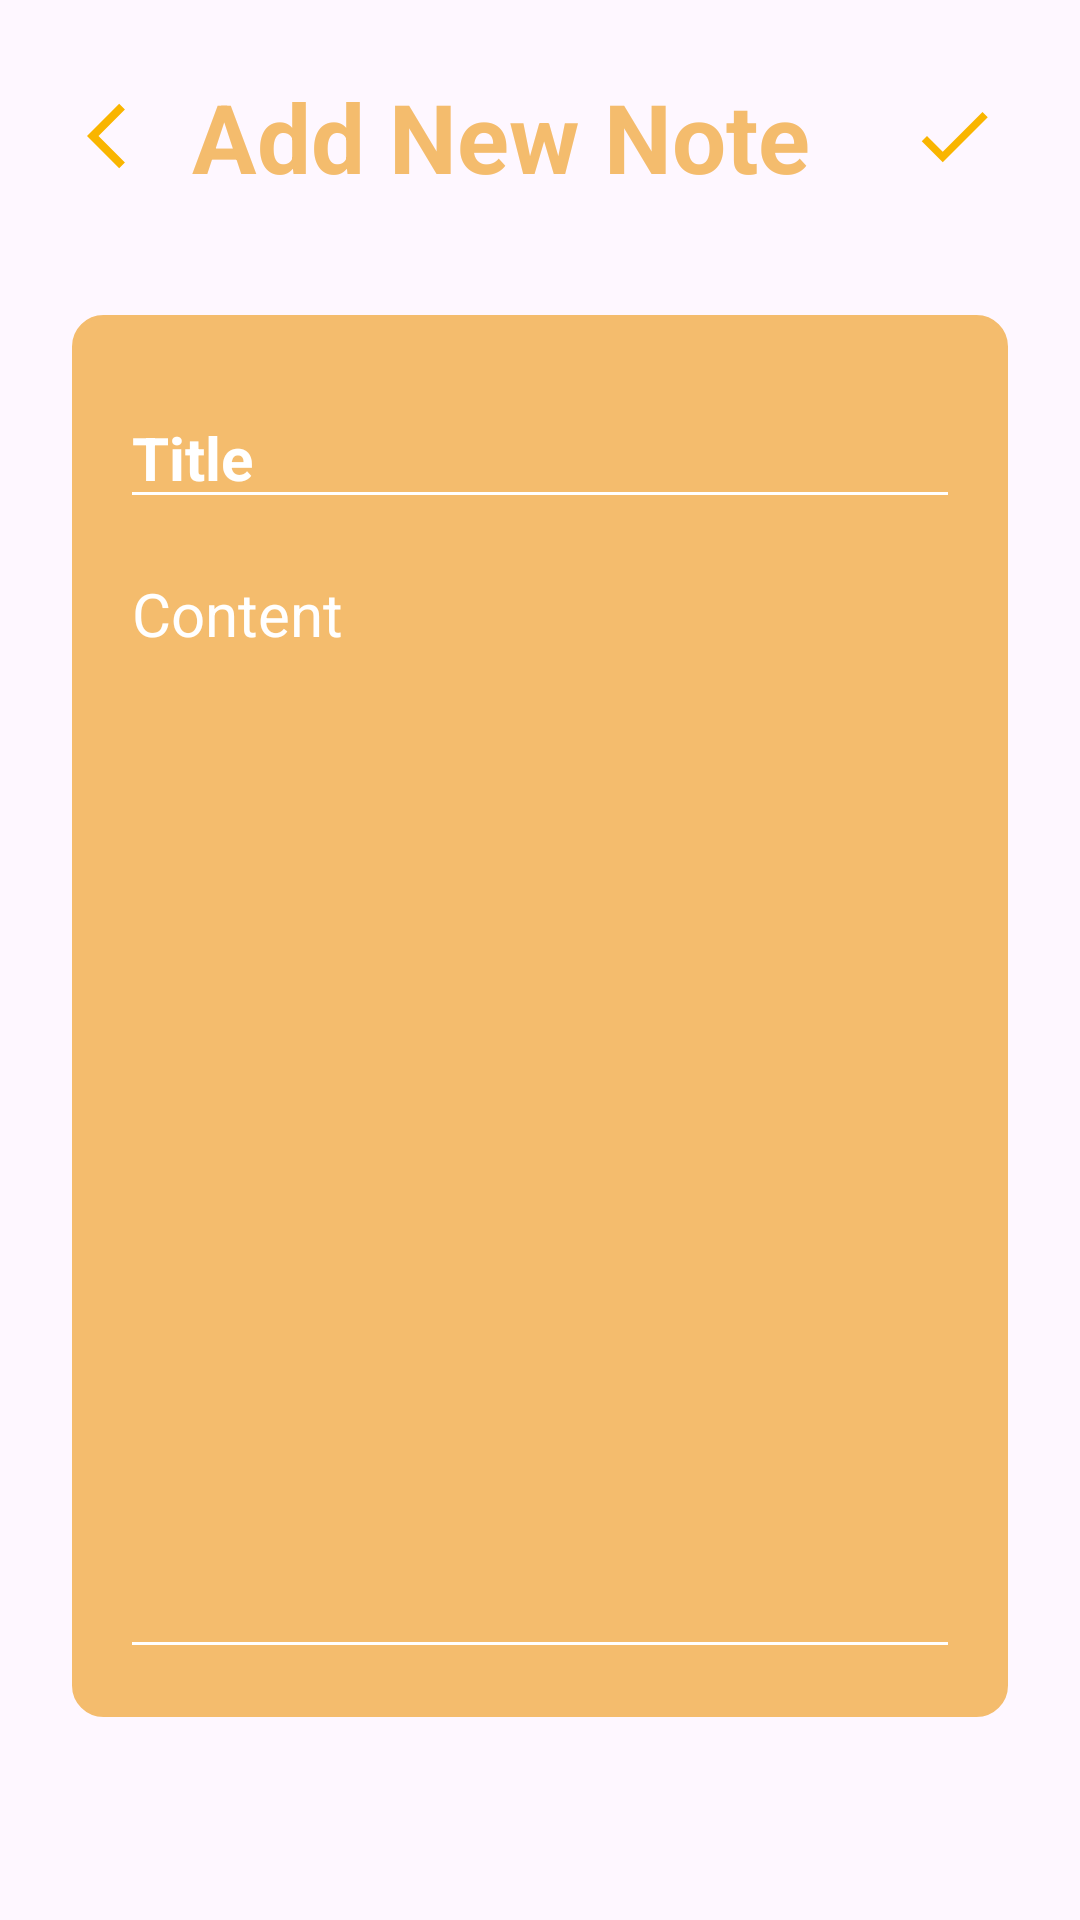

Locate icon controls on the screen. Image size 1080x1920, boxes as (x1, y1, x2, y2).
arrow back: (87, 104, 125, 168)
done: (922, 112, 988, 162)
